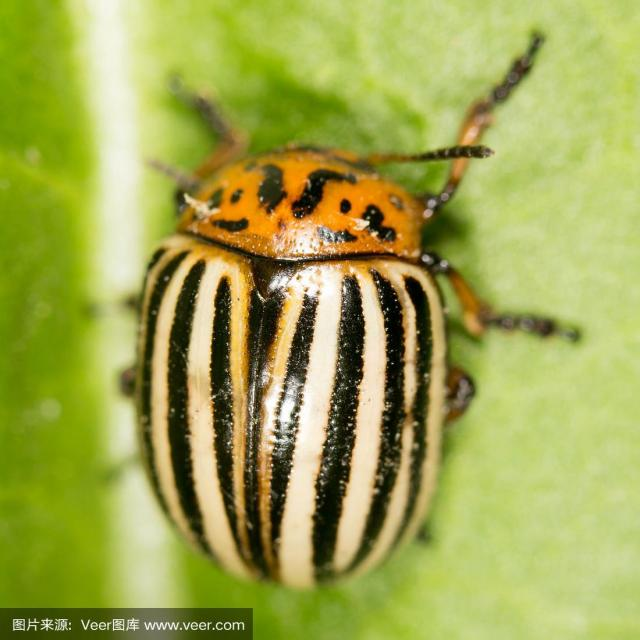ShuCaiHuaBanChong-Grown-: (116, 125, 480, 607)
